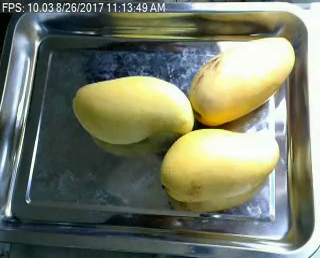Mango: (191, 35, 297, 125), (158, 127, 280, 205), (73, 74, 196, 147)
